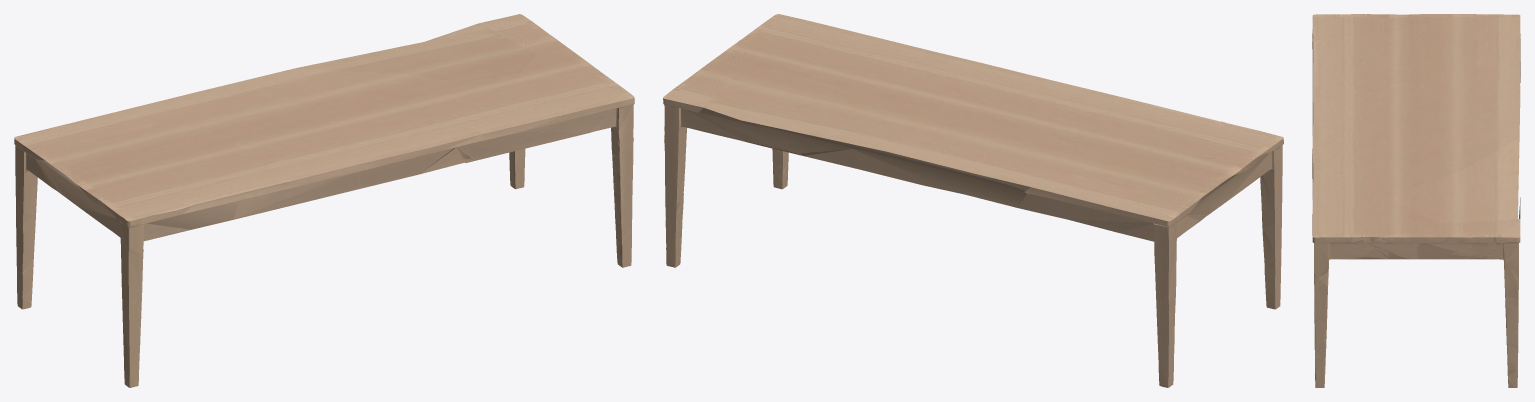
The model's file is table.glb.
3 renders of one model, left to right at view 1: azimuth 30°, elevation 25°; view 2: azimuth 150°, elevation 25°; view 3: azimuth 270°, elevation 25°, orthographic. The views are drawn at different scales.
Parts seen in each view (by area): view 1: Mesh_0; view 2: Mesh_0; view 3: Mesh_0.
Boxes of the visible parts, x1,y1,x2,y2 form: Mesh_0: (14, 14, 634, 387); Mesh_0: (663, 14, 1283, 387); Mesh_0: (1312, 14, 1520, 387).
Size of the model in its own units: 1.9 by 0.6041 by 0.7478.
Materials: 1 (1 with a texture image).
